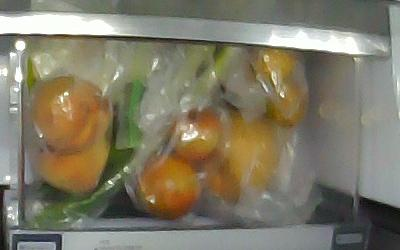peach_vinyl: (31, 75, 111, 154), (37, 133, 108, 194)
pear_vinyl: (204, 119, 280, 203)
tangerine_vinyl: (248, 47, 304, 84), (265, 80, 309, 123)
tomato_vinyl: (135, 158, 200, 215), (165, 105, 219, 162)
